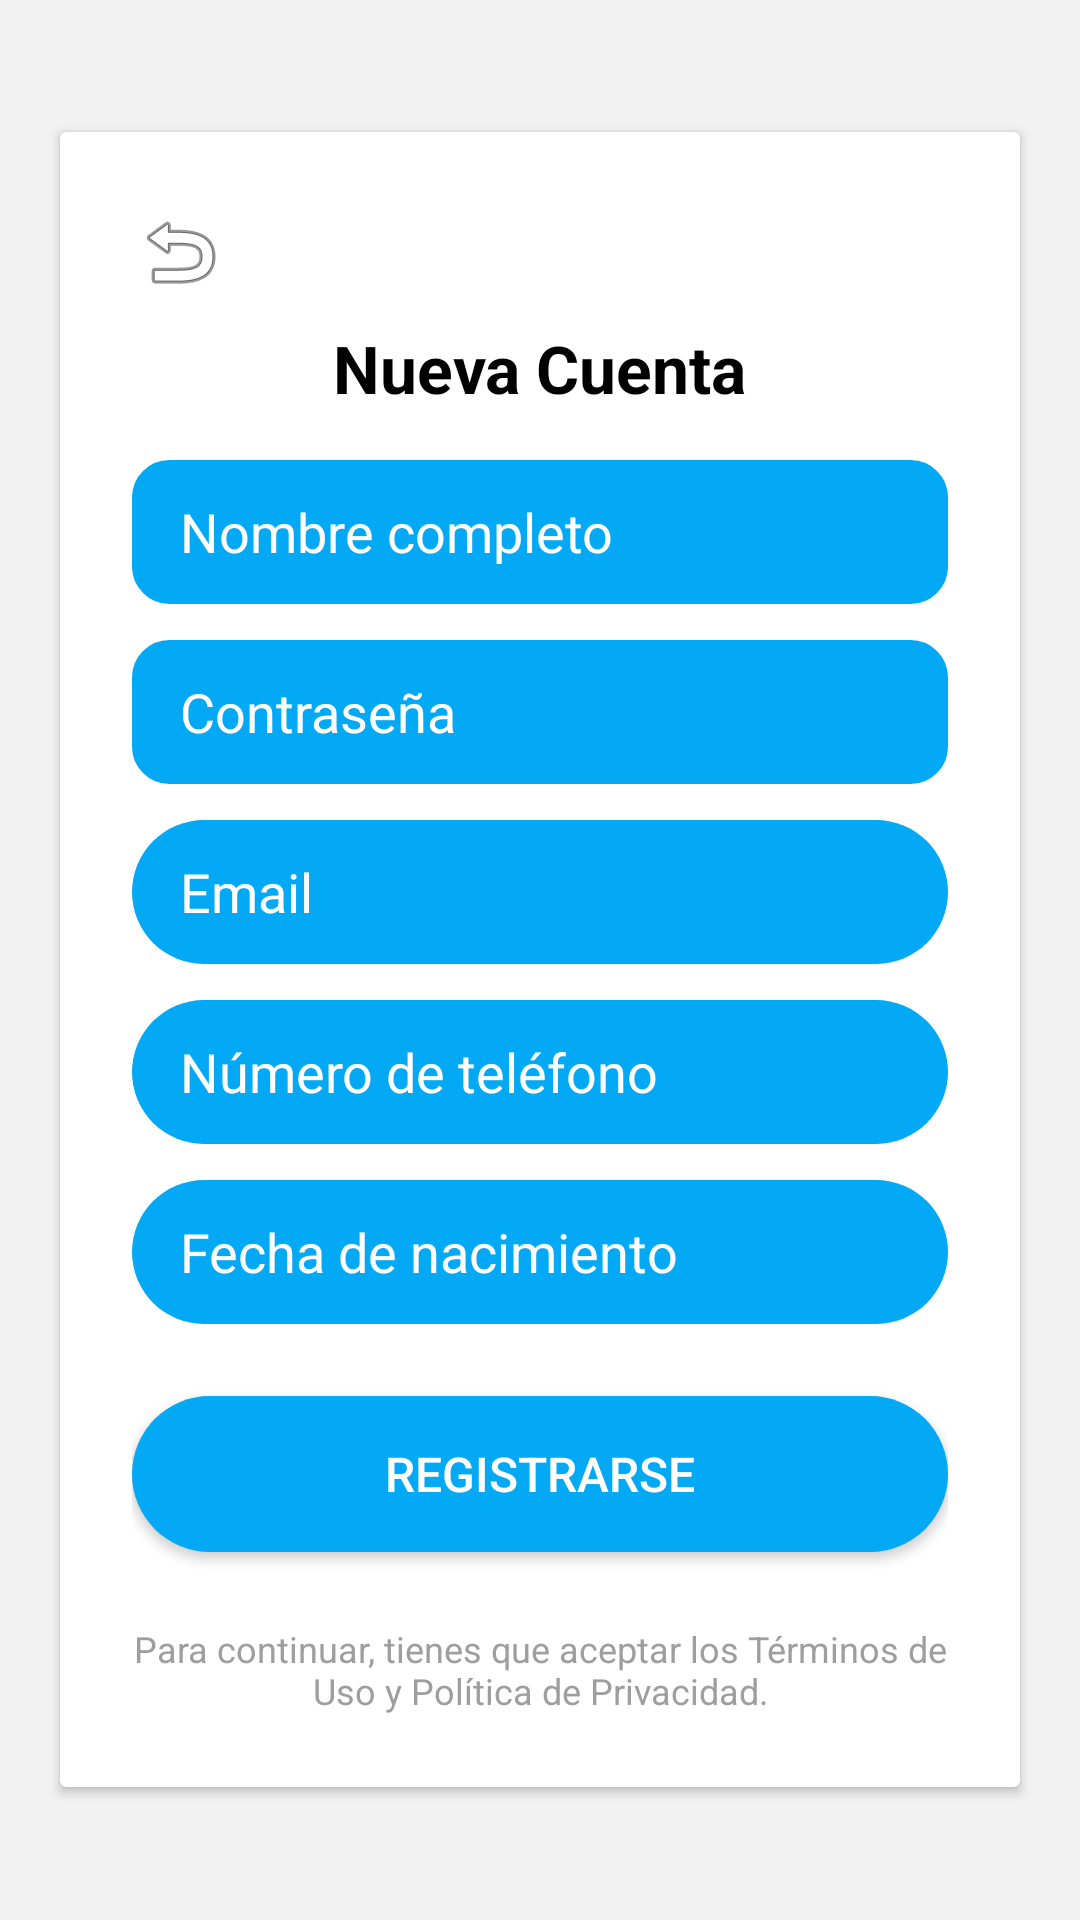

Screen size 1080×1920. Icon name, then its box in pixels as detection(x1, y1, x2, y2):
revert: detection(147, 221, 216, 284)
